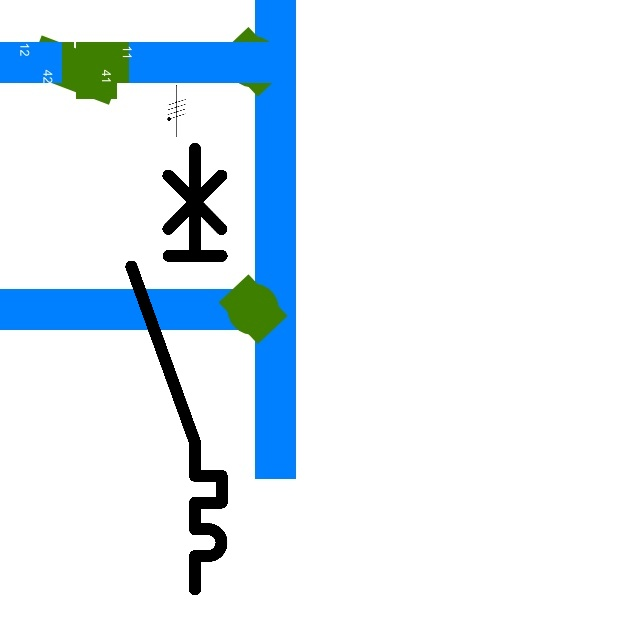interruptor_termomagnetico: (120, 137, 233, 600)
